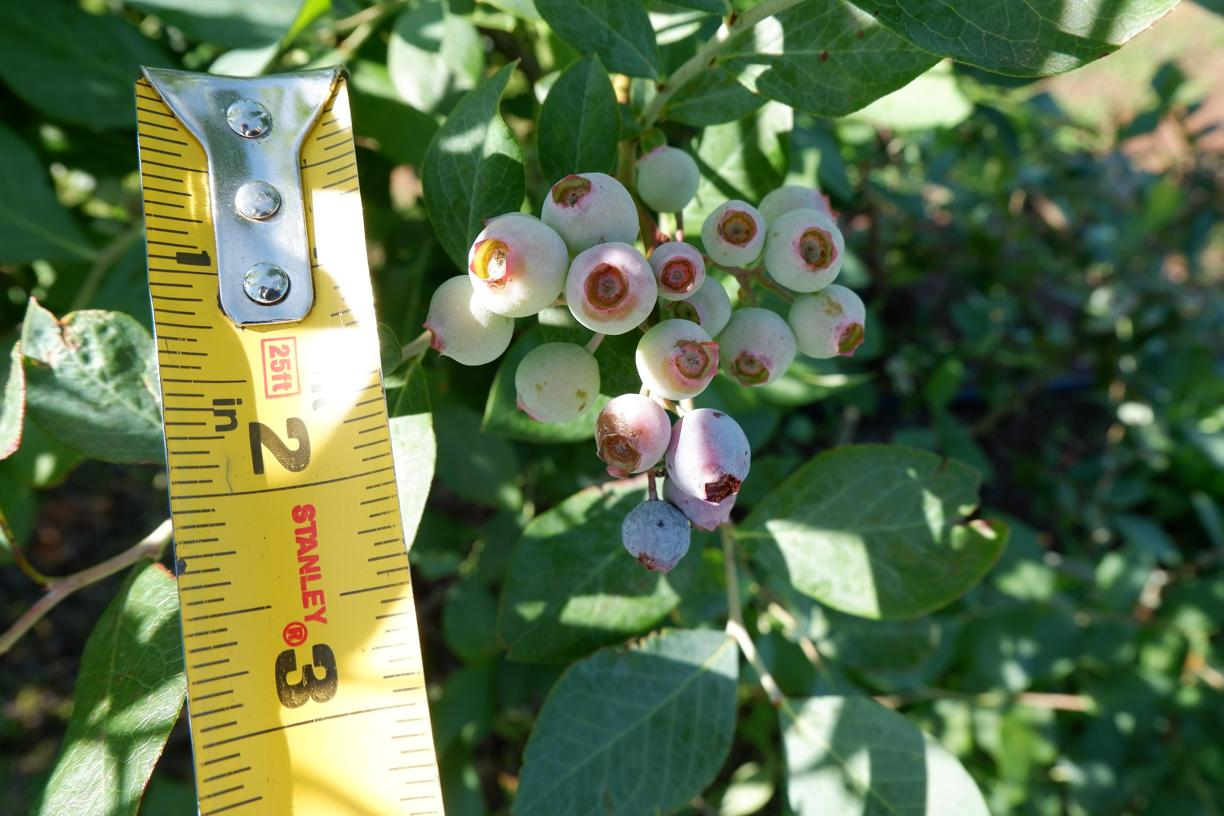Immature: (468, 216, 570, 317), (540, 172, 640, 262), (665, 408, 751, 505), (566, 242, 656, 334), (423, 275, 514, 365), (764, 208, 845, 292), (636, 318, 720, 399), (515, 341, 599, 422), (712, 307, 796, 387), (595, 393, 671, 479), (786, 283, 865, 358), (633, 145, 700, 211), (660, 274, 731, 336), (701, 199, 765, 266), (663, 474, 736, 531), (758, 185, 842, 234), (648, 241, 705, 300)
Mature: (621, 500, 690, 573)
